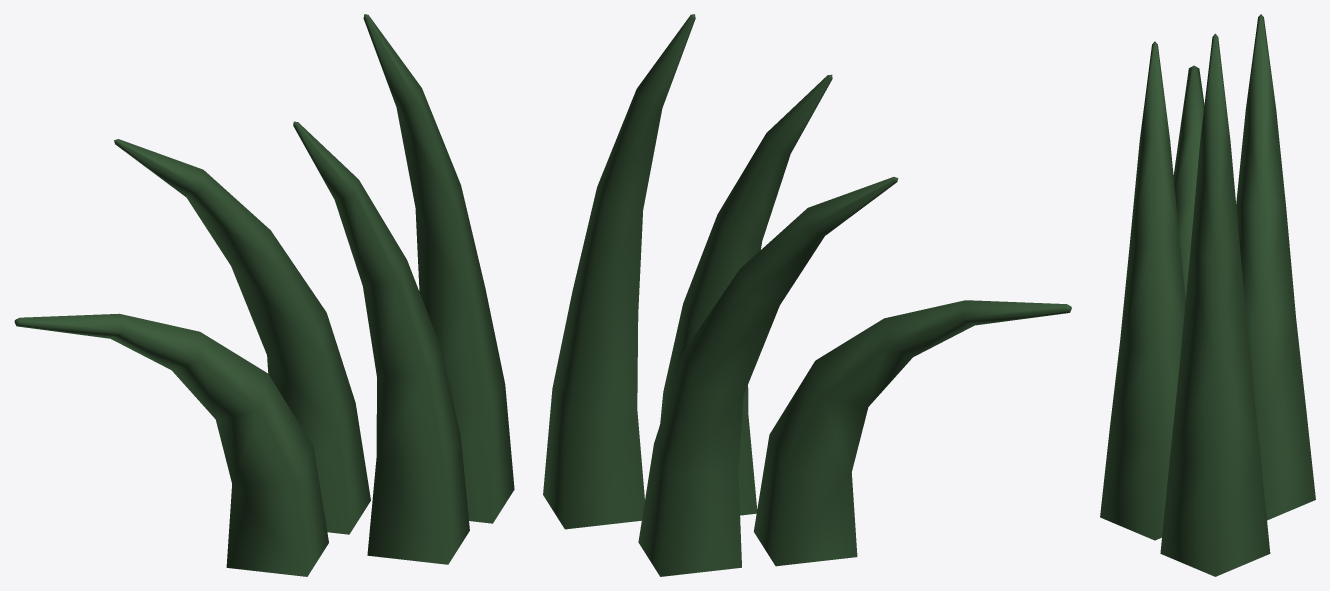
Rendered from batch-1.dae.
3 views of the same model, side by side, from view 1: azimuth 30°, elevation 25°; view 2: azimuth 150°, elevation 25°; view 3: azimuth 270°, elevation 25° (orthographic). The views are drawn at different scales.
Parts seen in each view (by area): view 1: GrassBatch_Cylinder_Cylinder.001; view 2: GrassBatch_Cylinder_Cylinder.001; view 3: GrassBatch_Cylinder_Cylinder.001.
Boxes of the visible parts, bbox=[...] form: GrassBatch_Cylinder_Cylinder.001: bbox=[14, 14, 514, 576]; GrassBatch_Cylinder_Cylinder.001: bbox=[543, 14, 1071, 576]; GrassBatch_Cylinder_Cylinder.001: bbox=[1100, 14, 1315, 576].
Size of the model in its own units: 0.3991 by 0.1572 by 0.3818.
